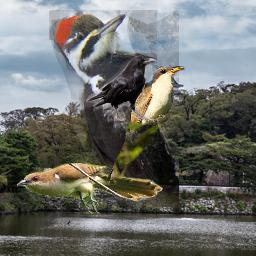Crow: (86, 53, 157, 121)
Cuckoo: (104, 63, 186, 187), (17, 163, 163, 214)
Woodpecker: (49, 10, 179, 207)
